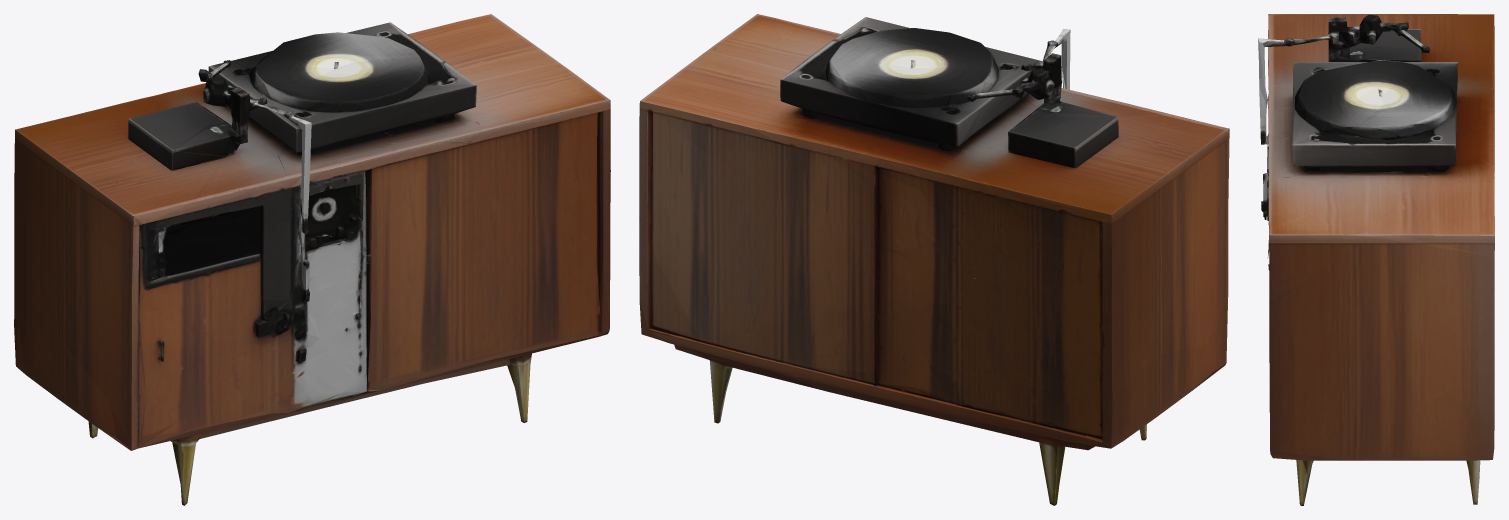
File: recordPlayer.glb
The picture shows the model from 3 angles, left to right: view 1: azimuth 30°, elevation 25°; view 2: azimuth 150°, elevation 25°; view 3: azimuth 270°, elevation 25°; orthographic projection. The views are drawn at different scales.
Parts seen in each view (by area): view 1: world; view 2: world; view 3: world.
Boxes of the visible parts, box(x1,y1,x2,y2) form: world: box(14, 14, 610, 505); world: box(639, 14, 1229, 505); world: box(1258, 14, 1494, 505).
Bounding box in the file's own units: 1 × 0.7642 × 0.4525.
1 material, 1 textured.
